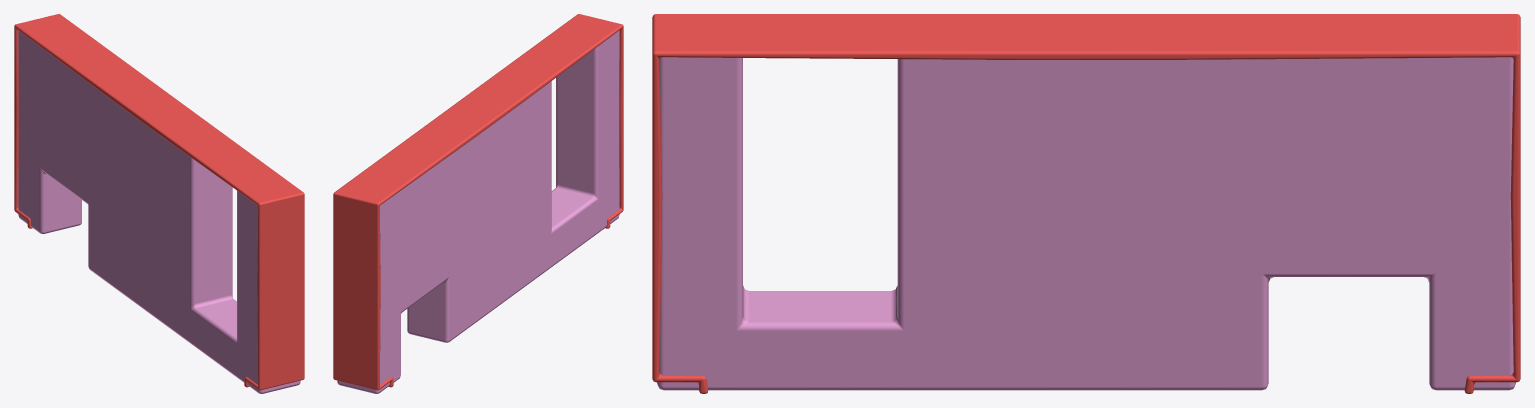
The model's file is wall06.fbx.
3 renders of one model, left to right at view 1: azimuth 30°, elevation 25°; view 2: azimuth 150°, elevation 25°; view 3: azimuth 270°, elevation 25°, orthographic. The views are drawn at different scales.
Visible parts, largest first — view 1: png5, wallOutside.002; view 2: png5, wallOutside.002; view 3: png5, wallOutside.002.
Part boxes in pixels (left/top/right/bottom): png5: left=18, top=30, right=300, bottom=393; wallOutside.002: left=14, top=14, right=304, bottom=390; png5: left=337, top=30, right=619, bottom=393; wallOutside.002: left=333, top=14, right=623, bottom=390; png5: left=657, top=57, right=1515, bottom=390; wallOutside.002: left=652, top=14, right=1520, bottom=393.
Size of the model in its own units: 218 by 878 by 2014.
